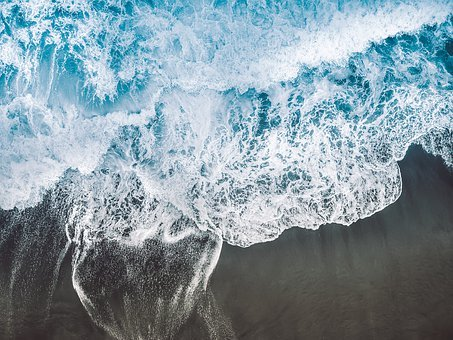sea: (4, 3, 441, 328)
